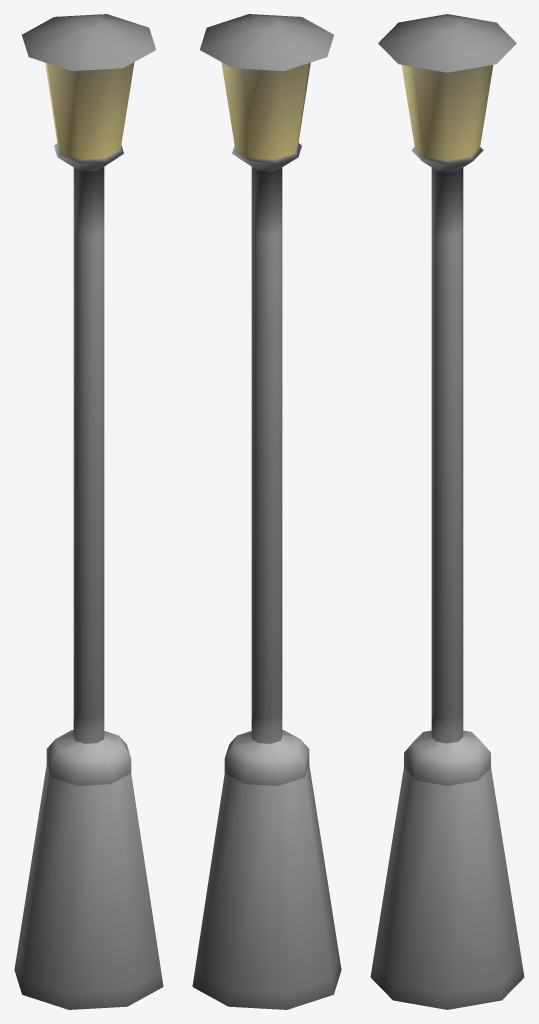
The model's file is Infra_street_lamp_mdl.fbx.
3 renders of one model, left to right at view 1: azimuth 30°, elevation 25°; view 2: azimuth 150°, elevation 25°; view 3: azimuth 270°, elevation 25°, orthographic.
Parts seen in each view (by area): view 1: pCylinder1; view 2: pCylinder1; view 3: pCylinder1.
Part boxes in pixels (x1,y1,x2,y2): pCylinder1: [14, 14, 163, 1009]; pCylinder1: [192, 14, 341, 1009]; pCylinder1: [370, 14, 524, 1009].
Size of the model in its own units: 49.81 by 340 by 49.81.
